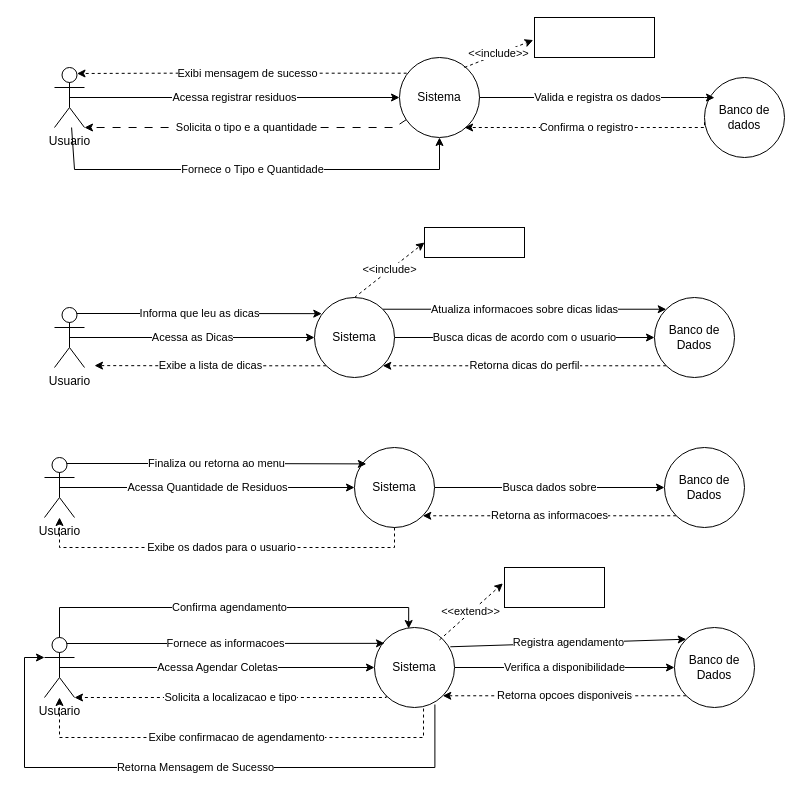
This 802x793 diagram has some shape labels left out. The centre of each missing label's shape, as x and y in pixels:
Confirma disponibilidade: the point at 554,587
Seleciona Perfil: the point at 474,242
Valida Dados dos residuos: the point at 594,37
